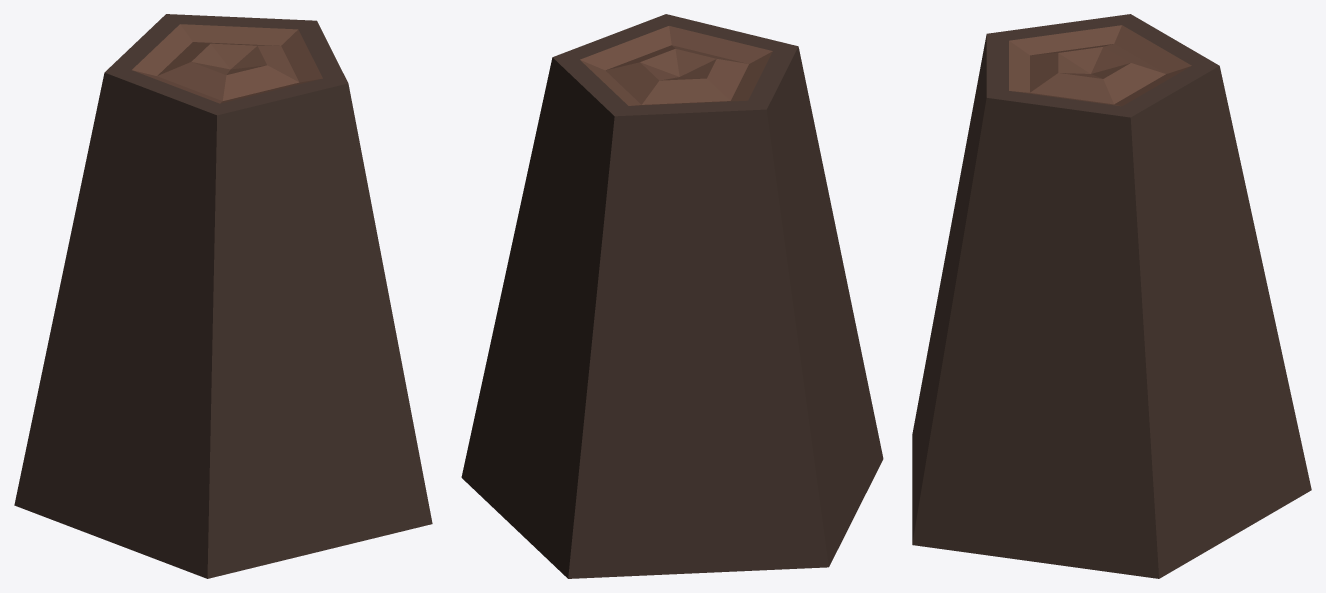
Rendered from LPHorror_HorrorPineStump.fbx.
3 views of the same model, side by side, from view 1: azimuth 30°, elevation 25°; view 2: azimuth 150°, elevation 25°; view 3: azimuth 270°, elevation 25° (orthographic).
Parts seen in each view (by area): view 1: HorrorPineStump; view 2: HorrorPineStump; view 3: HorrorPineStump.
Boxes of the visible parts, box(x1,y1,x2,y2) form: HorrorPineStump: box(14, 14, 432, 578); HorrorPineStump: box(461, 14, 883, 578); HorrorPineStump: box(912, 14, 1311, 578).
Bounding box in the file's own units: 80.39 × 90.2 × 76.45.
